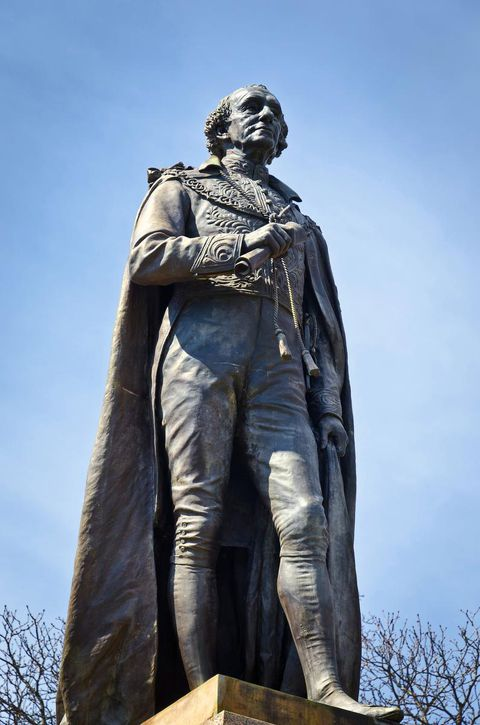person-like: (116, 73, 411, 725)
